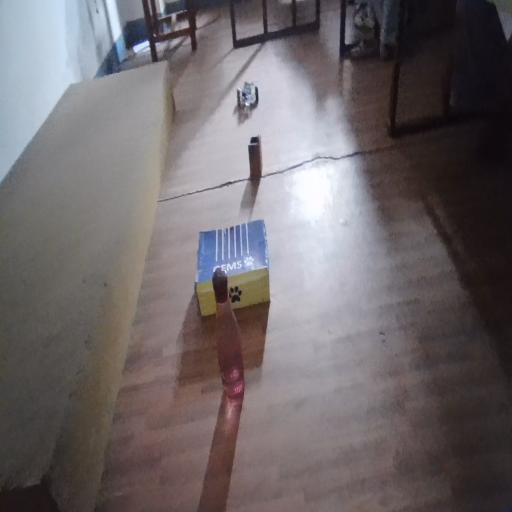Bottle: (197, 238, 246, 390)
car: (235, 73, 261, 114)
